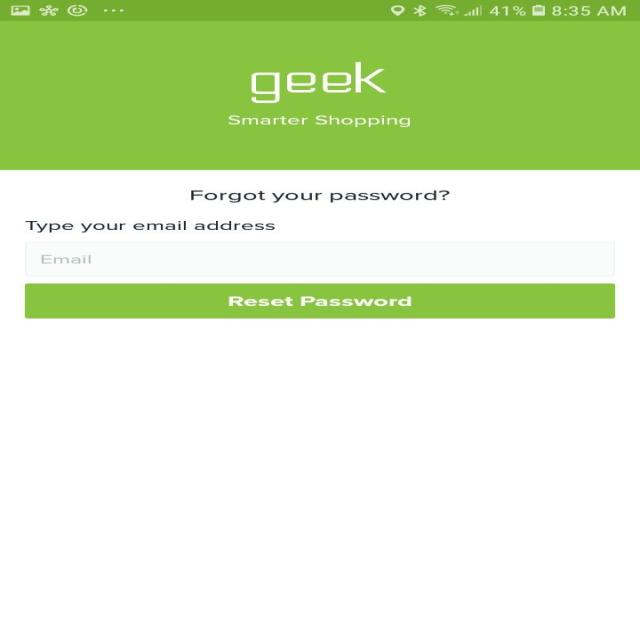EditText: (24, 241, 614, 276)
Text: (250, 62, 386, 103), (190, 190, 450, 203), (25, 220, 275, 232), (228, 115, 410, 127), (40, 254, 91, 264)
TextButton: (24, 283, 614, 319)
